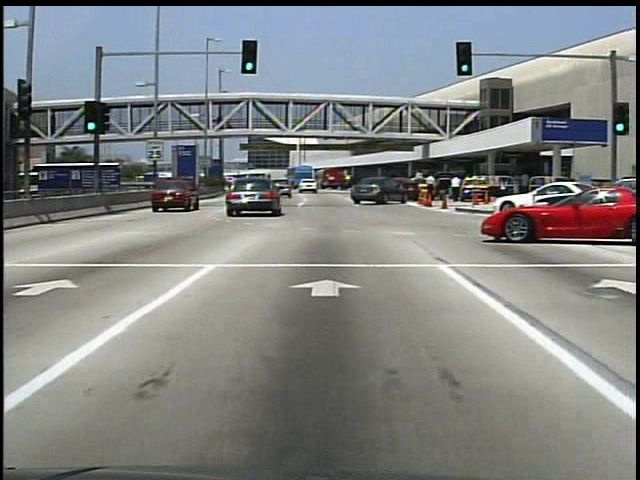person: (422, 172, 439, 207), (496, 176, 512, 211), (451, 174, 466, 203), (517, 175, 530, 195), (216, 115, 226, 133)
